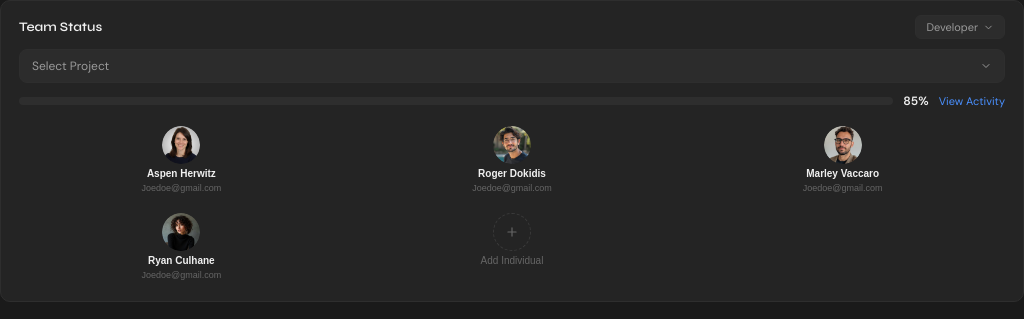
Test case: TeamStatusPanel › offers "ChronoLoop Launch" as a Select Project option
Click the button "Select Project": (71, 66) [19,49,1005,83]
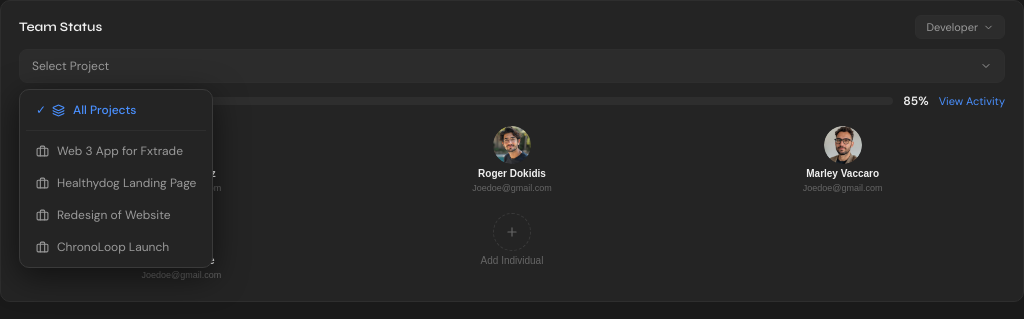
Click the menu item "ChronoLoop Launch": (103, 247) [36,239,169,255]
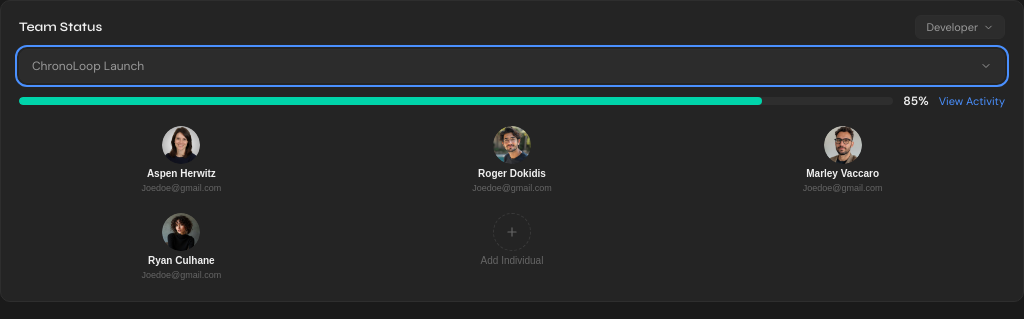
Check: the button "ChronoLoop Launch" is shown, box [19,49,1005,83]
